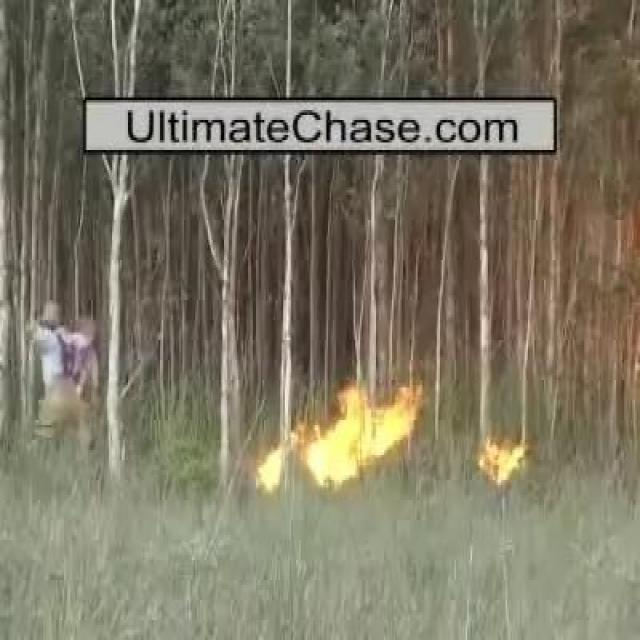Fire: (254, 384, 422, 491), (480, 441, 530, 484)
